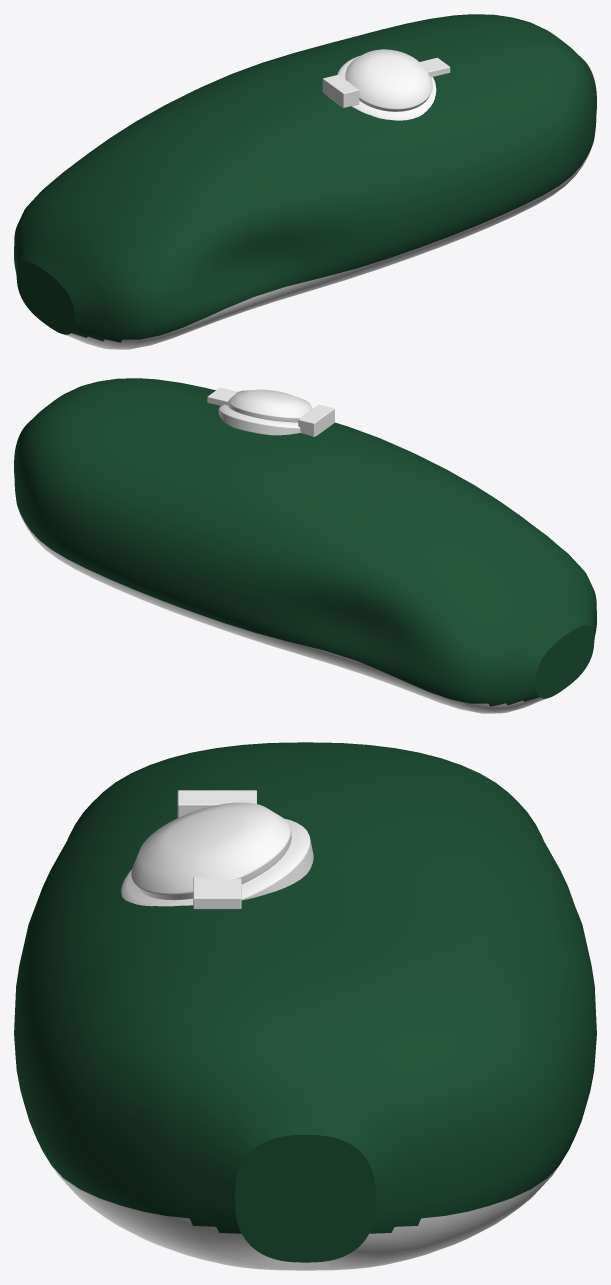
Rendered from bike_cafe_racer__fuel_tank.glb.
3 views of the same model, one above another, from view 1: azimuth 30°, elevation 25°; view 2: azimuth 150°, elevation 25°; view 3: azimuth 270°, elevation 25° (orthographic). The views are drawn at different scales.
Parts seen in each view (by area): view 1: frame_body__fuel_tank, frame_body__fuel_tank__filler_cap; view 2: frame_body__fuel_tank, frame_body__fuel_tank__filler_cap; view 3: frame_body__fuel_tank, frame_body__fuel_tank__filler_cap.
Part boxes in pixels (bbox=[...]): frame_body__fuel_tank: bbox=[14, 14, 596, 349]; frame_body__fuel_tank__filler_cap: bbox=[322, 49, 450, 120]; frame_body__fuel_tank: bbox=[14, 378, 596, 713]; frame_body__fuel_tank__filler_cap: bbox=[207, 387, 334, 436]; frame_body__fuel_tank: bbox=[14, 742, 596, 1270]; frame_body__fuel_tank__filler_cap: bbox=[121, 790, 313, 909].
Size of the model in its own units: 52.7 by 20.34 by 26.48.
